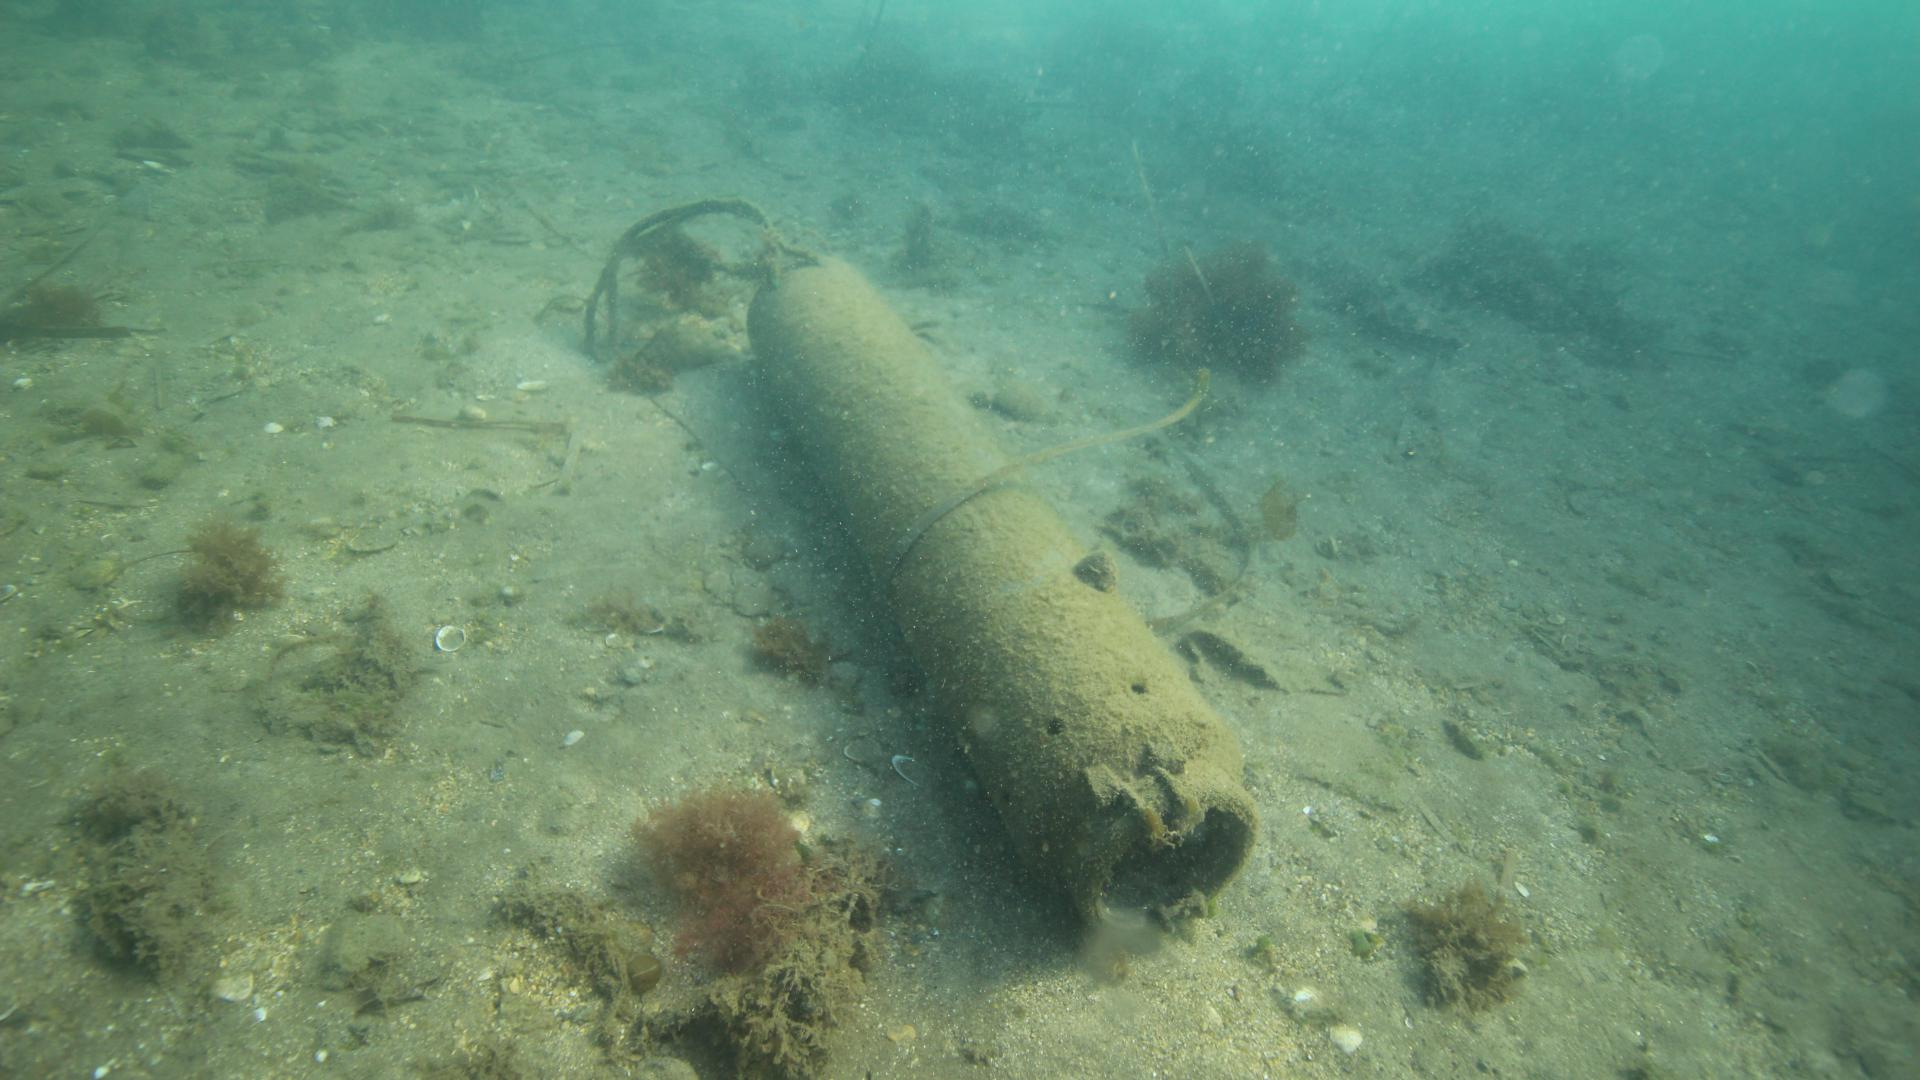bundle of ropes: (576, 189, 782, 357)
eel fish trap: (741, 249, 1259, 934)
